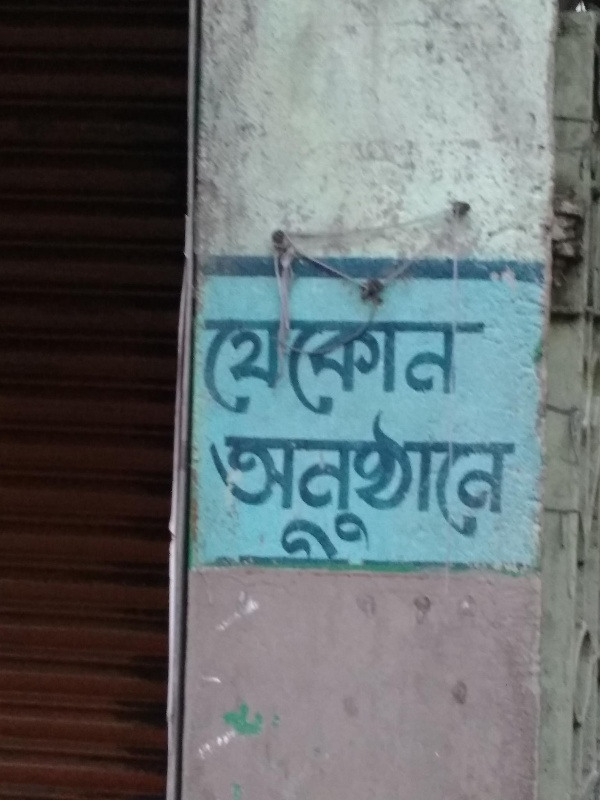text: (209, 407, 224, 559), (225, 407, 240, 559), (241, 407, 256, 559), (257, 407, 272, 559), (273, 407, 288, 559), (289, 407, 304, 559), (305, 407, 320, 559), (321, 407, 336, 559), (337, 407, 352, 559), (353, 407, 368, 559), (369, 407, 384, 559), (385, 407, 400, 559), (401, 407, 416, 559), (417, 407, 432, 559), (433, 407, 448, 559), (449, 407, 464, 559), (465, 407, 480, 559), (481, 407, 496, 559), (497, 407, 512, 559), (209, 309, 224, 422), (225, 309, 240, 422), (241, 309, 256, 422), (257, 309, 272, 422), (273, 309, 288, 422), (289, 309, 304, 422), (305, 309, 320, 422), (321, 309, 336, 422), (337, 309, 352, 422), (353, 309, 368, 422), (369, 309, 384, 422), (385, 309, 400, 422), (401, 309, 416, 422), (417, 309, 432, 422), (433, 309, 448, 422), (449, 309, 464, 422), (465, 309, 480, 422), (481, 309, 493, 422), (200, 309, 208, 422), (204, 407, 208, 559), (513, 407, 517, 559), (257, 522, 272, 556), (273, 522, 288, 556), (289, 522, 304, 556), (305, 522, 320, 556), (321, 522, 336, 556), (337, 522, 346, 556), (252, 522, 256, 556)
